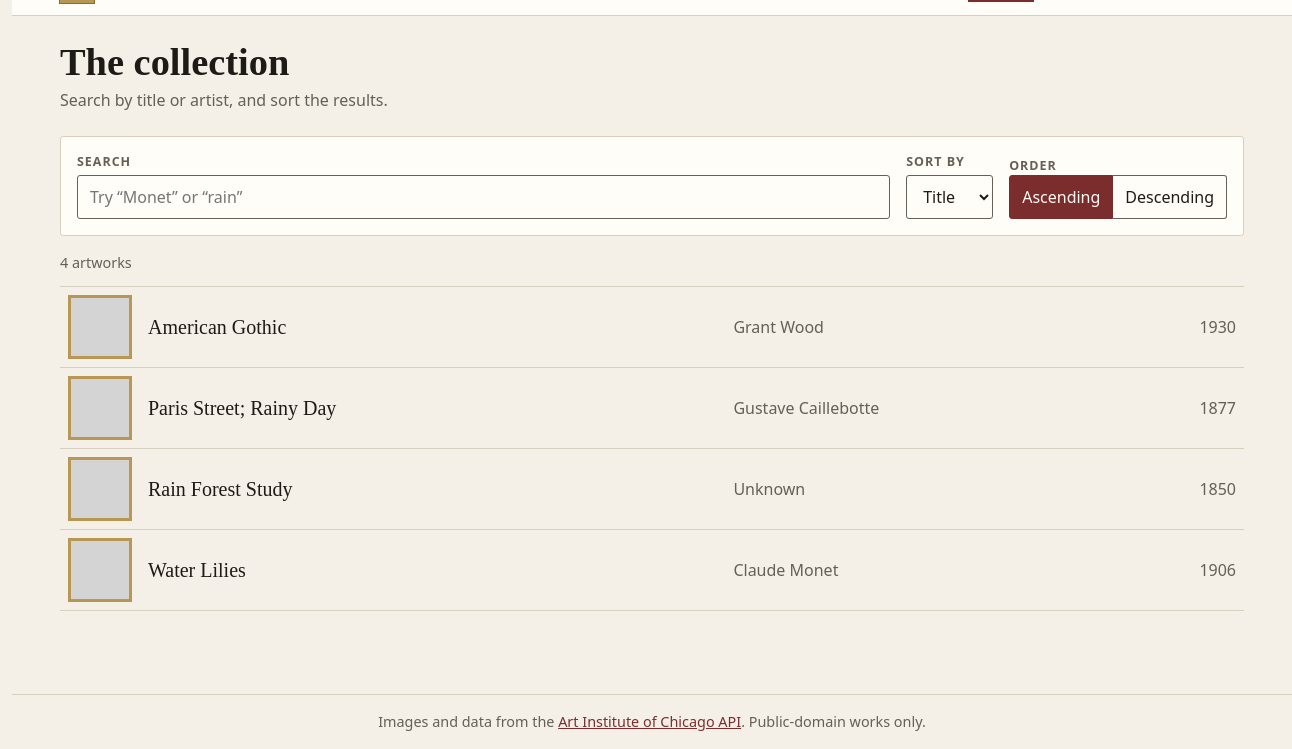
ListView › sorts by year, latest first
This screenshot has width=1292, height=749.
Check: the text "4 artworks" is shown, box [60,252,132,274]
Step 1. Select "Year" in the dropdown labelled "Sort by" → [950, 198], box [906,176,993,220]
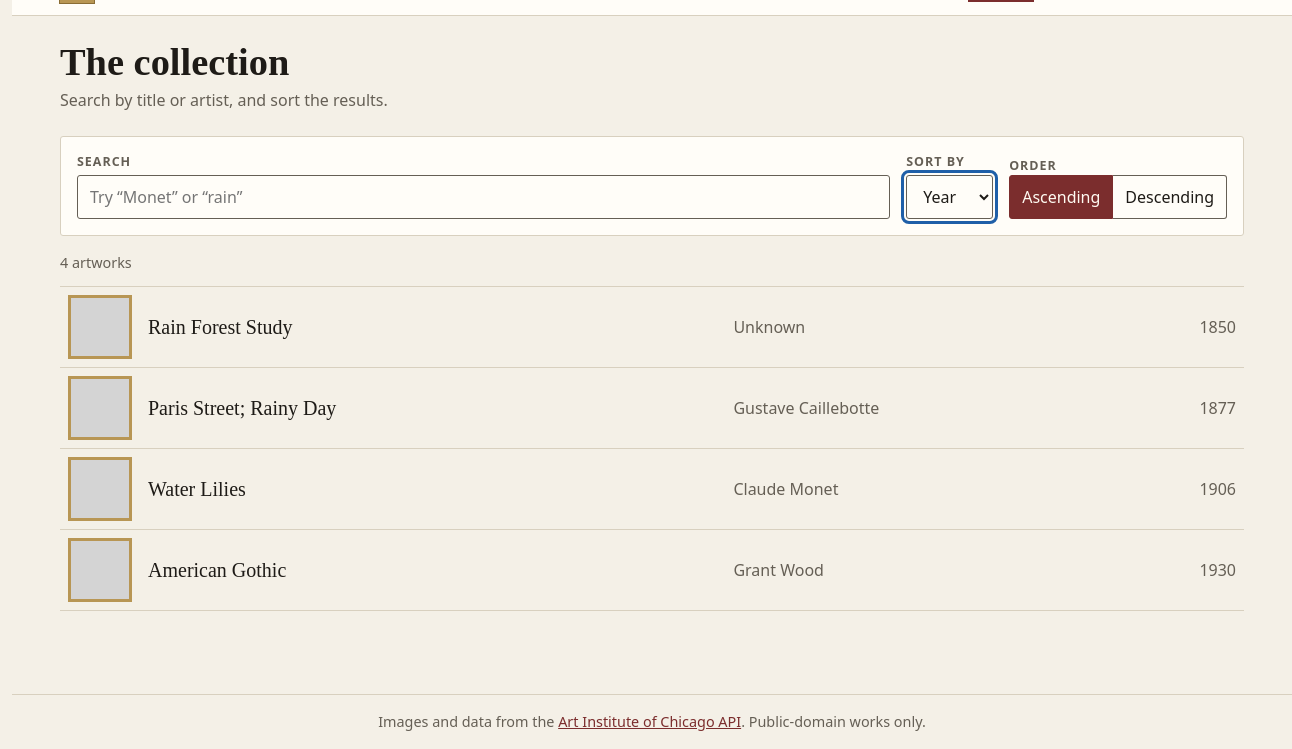
Step 2. Click the button "Descending" → [1170, 198], box [1113,176,1227,220]
(page scrolled)
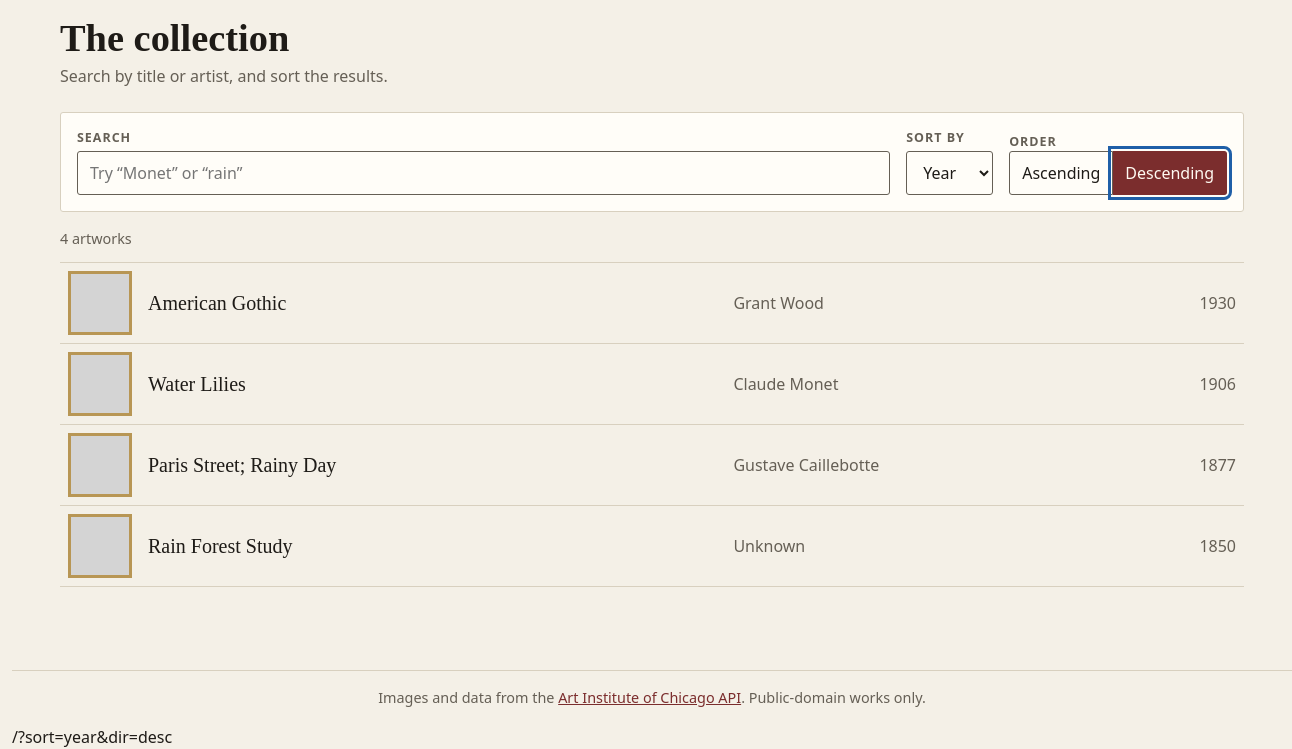
Check: the text with test id "address" reads "/?sort=year&dir=desc", box [12,726,172,748]
